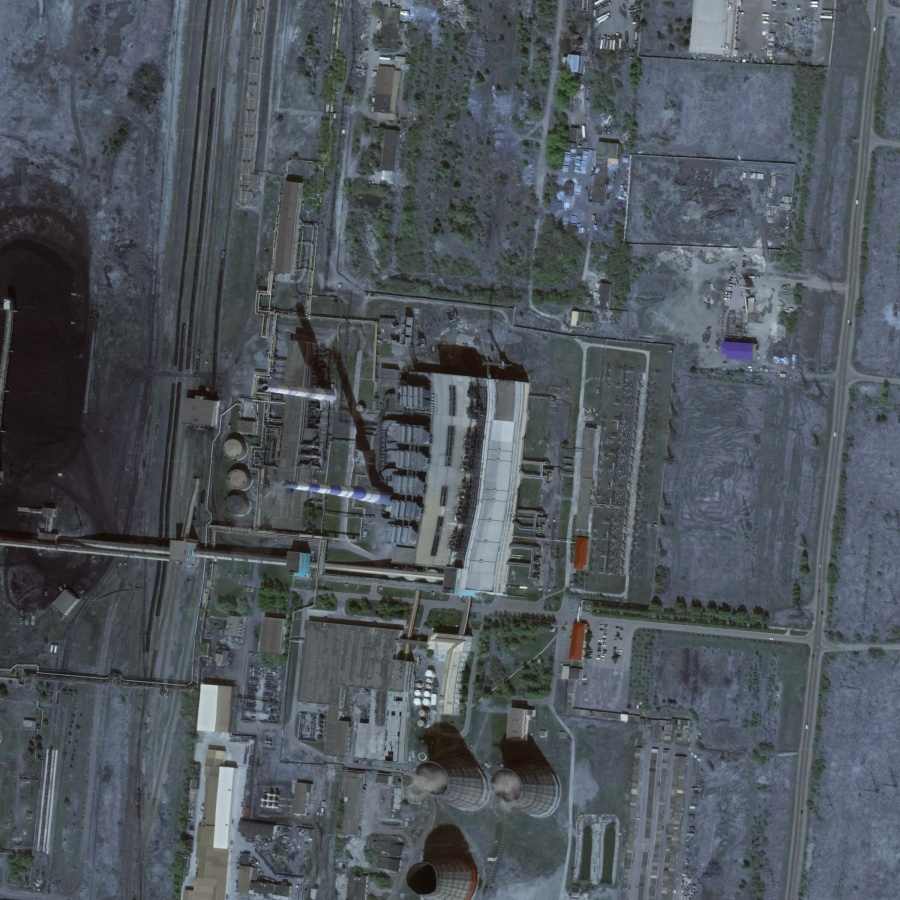PowerPlant: (242, 291, 431, 553)
